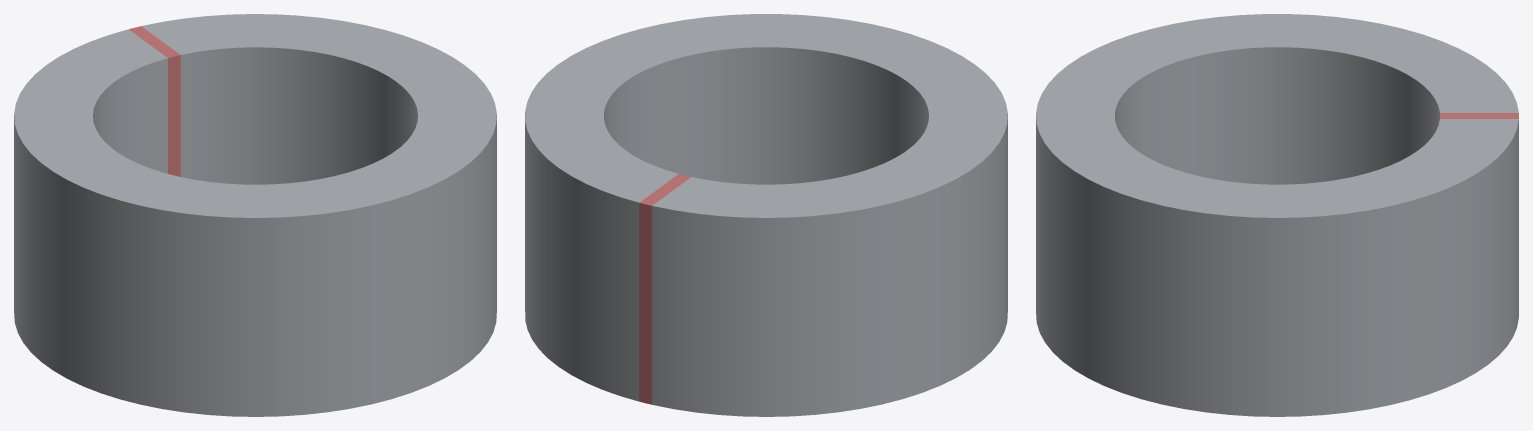
Rendered from step_02.glb.
3 views of the same model, side by side, from view 1: azimuth 30°, elevation 25°; view 2: azimuth 150°, elevation 25°; view 3: azimuth 270°, elevation 25° (orthographic).
Parts seen in each view (by area): view 1: part__zinc anode, removed__zinc anode; view 2: part__zinc anode, removed__zinc anode; view 3: part__zinc anode, removed__zinc anode.
Part boxes in pixels (bbox=[...]): part__zinc anode: bbox=[14, 14, 496, 416]; removed__zinc anode: bbox=[129, 26, 180, 176]; part__zinc anode: bbox=[525, 14, 1007, 416]; removed__zinc anode: bbox=[639, 174, 690, 404]; part__zinc anode: bbox=[1036, 14, 1518, 416]; removed__zinc anode: bbox=[1440, 113, 1518, 118].
Bounding box in the file's own units: 132 × 60 × 132.
